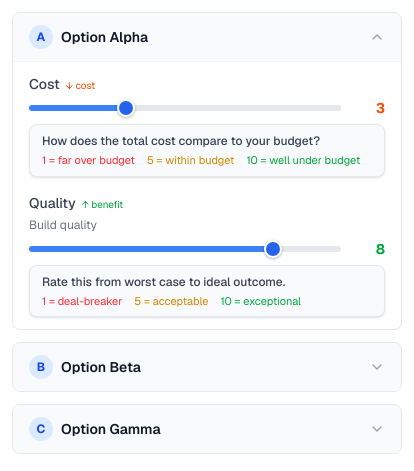
Test case: MobileScoreCards › clicking the expanded card collapses it
// Click Alpha (already expanded) to collapse
Click the button "A Option Alpha" at (105, 37), box [13,13,401,61]
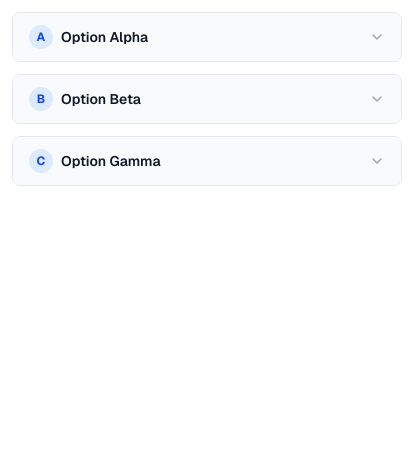
Expected: the button "A Option Alpha" is collapsed, [13,13,401,61]
